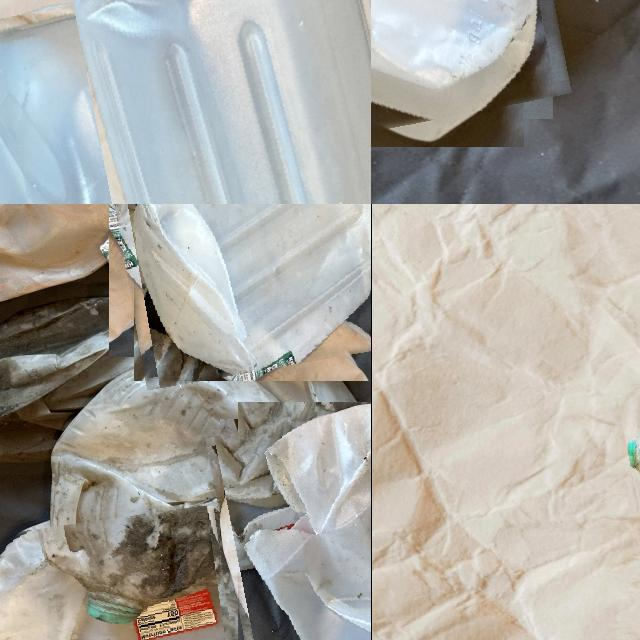milk-jug: (0, 0, 371, 204), (41, 365, 288, 627), (109, 204, 371, 380), (217, 399, 371, 640), (0, 514, 232, 640), (371, 0, 554, 149)
